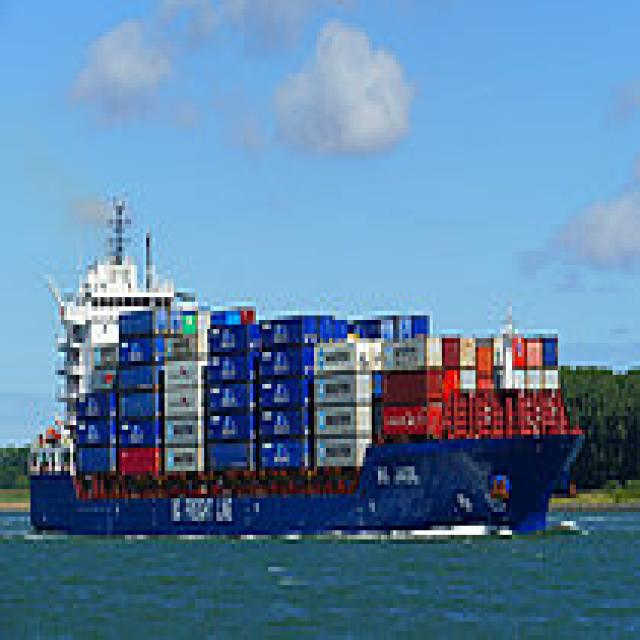Cargo: (21, 183, 582, 530)
